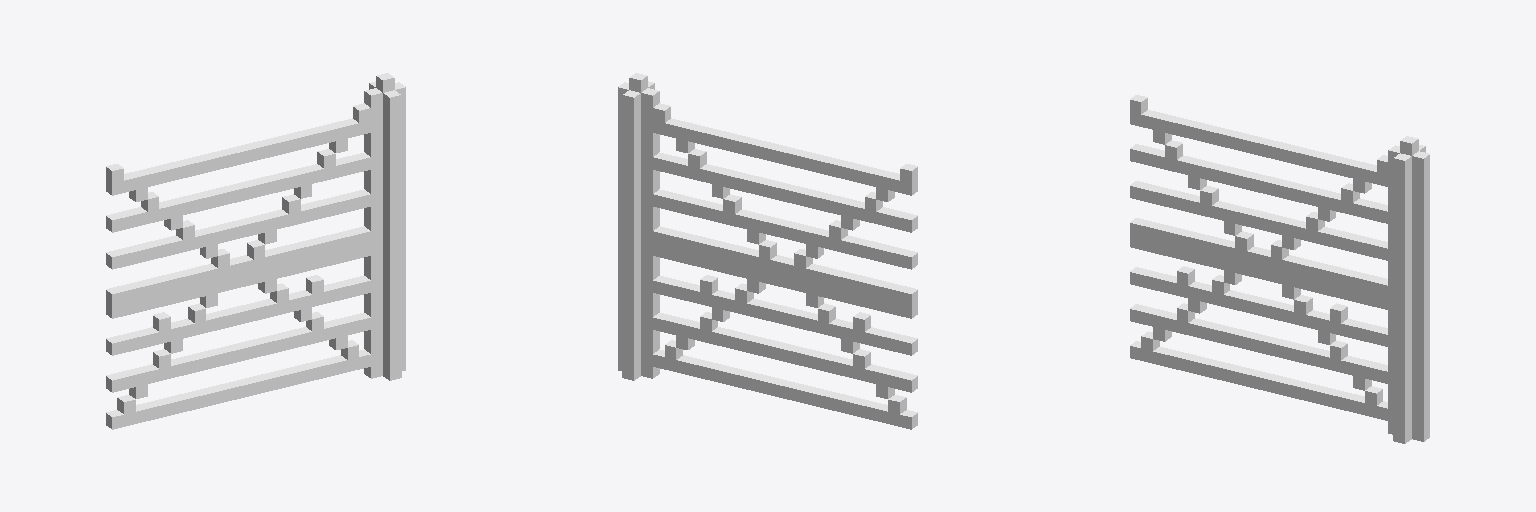
The model's file is fenceoneside.obj.
The picture shows the model from 3 angles: view 1: azimuth 30°, elevation 25°; view 2: azimuth 150°, elevation 25°; view 3: azimuth 330°, elevation 25°; orthographic projection.
Parts seen in each view (by area): view 1: object 1; view 2: object 1; view 3: object 1.
Part boxes in pixels (bbox=[...]): object 1: bbox=[106, 73, 405, 429]; object 1: bbox=[618, 73, 917, 429]; object 1: bbox=[1130, 95, 1429, 443].
Size of the model in its own units: 2.5 by 2.4 by 0.3.